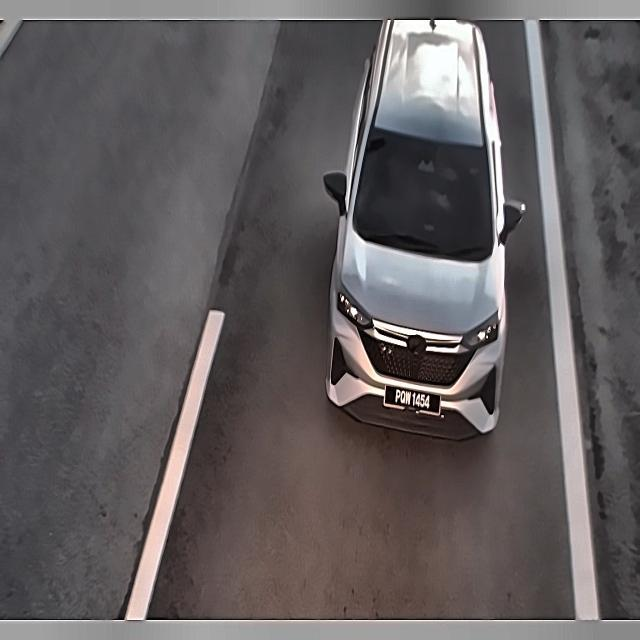car: (380, 378, 444, 423)
